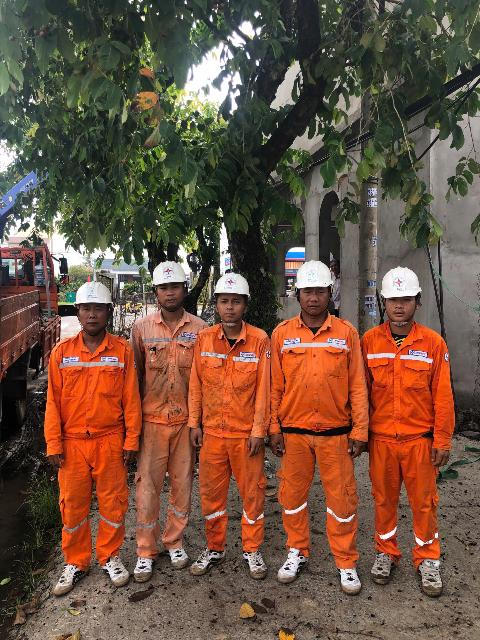helmet: (286, 248, 343, 296), (142, 249, 200, 292), (70, 274, 122, 314), (378, 266, 431, 302), (202, 265, 254, 299)
shoes: (39, 548, 90, 603), (231, 542, 279, 582), (270, 548, 319, 586), (415, 550, 451, 598), (369, 544, 407, 587), (184, 548, 236, 579), (335, 558, 367, 598), (98, 548, 128, 588), (166, 535, 193, 571), (133, 548, 161, 582)
